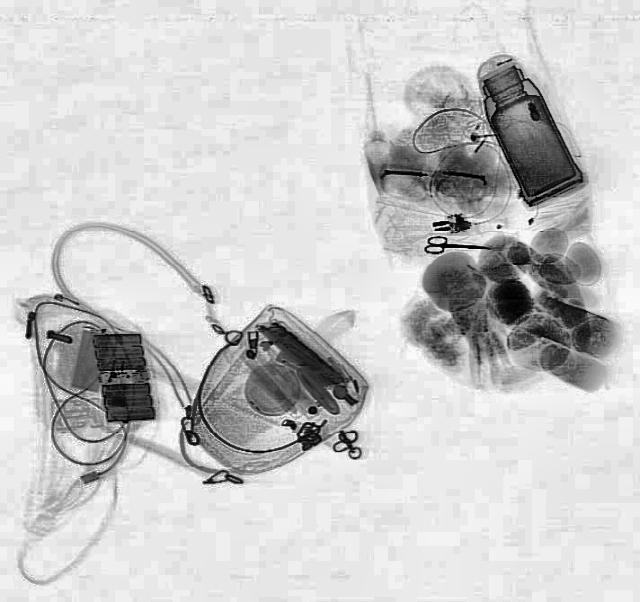Scissors: (423, 236, 489, 254)
